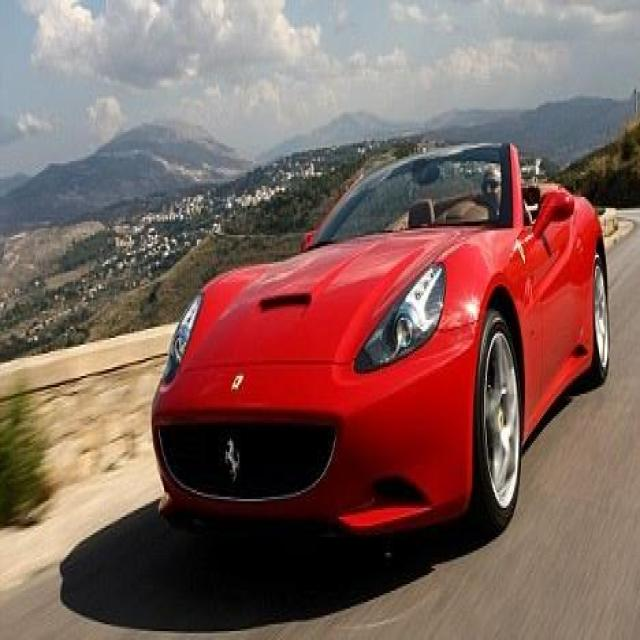Car: (150, 133, 610, 561)
